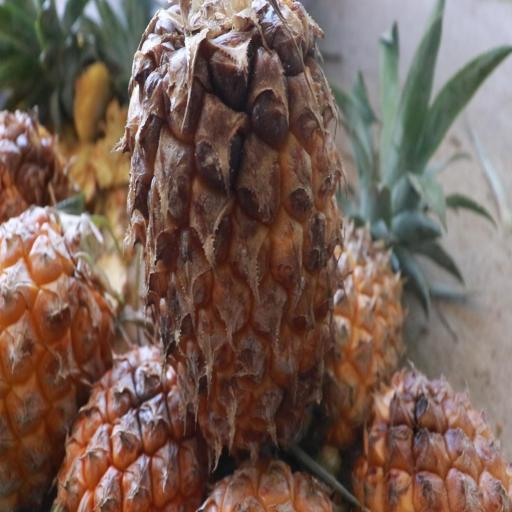Pineapple - v8 v1: (123, 0, 344, 465), (0, 194, 126, 512), (287, 204, 408, 474), (51, 337, 215, 512), (342, 368, 512, 512)
